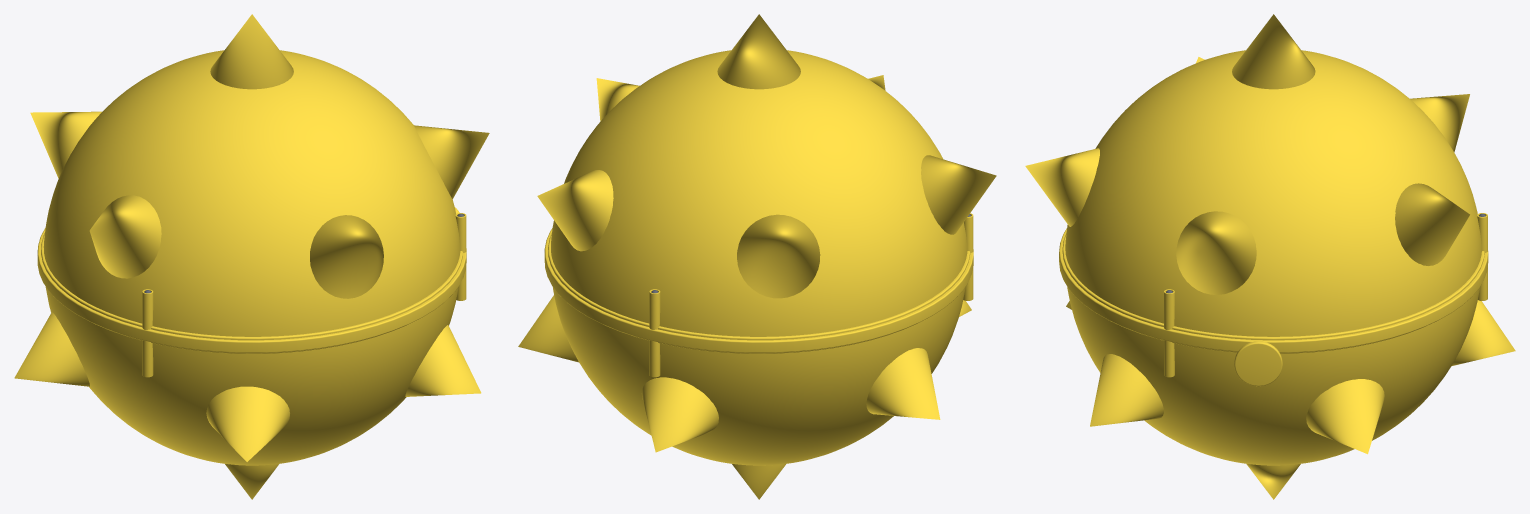
The model's file is spikeball.fbx.
3 views of the same model, side by side, from view 1: azimuth 30°, elevation 25°; view 2: azimuth 150°, elevation 25°; view 3: azimuth 270°, elevation 25° (orthographic).
Visible parts, largest first — view 1: Sphere, Tube, Cylinder_2_12, Cylinder_2_7, Cylinder_2, Cylinder_2_8, Cylinder_2_3, Cylinder_2_6, Cylinder_2_11, Tube_1, Cylinder_2_9, Cylinder_2_2 (+2 smaller); view 2: Sphere, Tube, Cylinder_2_9, Cylinder_2_5, Cylinder_2_10, Cylinder_2_6, Cylinder_2_8, Cylinder_2_7, Tube_1, Cylinder_2_4, Cylinder_2_2, Cylinder_2_11 (+2 smaller); view 3: Sphere, Tube, Cylinder_2_11, Cylinder_2_10, Cylinder_2_4, Cylinder_2_8, Cylinder_2_3, Cylinder_2_12, Tube_1, Cylinder_2_5, Cylinder_1, Cylinder_2_9 (+2 smaller).
Part boxes in pixels (left/top/right/bottom): Sphere: left=43, top=50, right=460, bottom=465; Tube: left=37, top=228, right=466, bottom=352; Cylinder_2_12: left=310, top=215, right=383, bottom=298; Cylinder_2_7: left=89, top=195, right=161, bottom=278; Cylinder_2: left=206, top=386, right=289, bottom=461; Cylinder_2_8: left=210, top=14, right=293, bottom=89; Cylinder_2_3: left=405, top=325, right=481, bottom=396; Cylinder_2_6: left=14, top=312, right=89, bottom=386; Cylinder_2_11: left=414, top=125, right=489, bottom=199; Tube_1: left=41, top=233, right=462, bottom=353; Cylinder_2_9: left=30, top=111, right=101, bottom=178; Cylinder_2_2: left=225, top=464, right=278, bottom=499; Sphere: left=551, top=50, right=967, bottom=465; Tube: left=544, top=228, right=973, bottom=352; Cylinder_2_9: left=737, top=214, right=820, bottom=298; Cylinder_2_5: left=641, top=377, right=718, bottom=452; Cylinder_2_10: left=537, top=170, right=613, bottom=251; Cylinder_2_6: left=866, top=348, right=940, bottom=419; Cylinder_2_8: left=717, top=14, right=800, bottom=89; Cylinder_2_7: left=921, top=155, right=996, bottom=234; Tube_1: left=548, top=233, right=970, bottom=353; Cylinder_2_4: left=518, top=295, right=578, bottom=362; Cylinder_2_2: left=732, top=464, right=785, bottom=499; Cylinder_2_11: left=596, top=78, right=639, bottom=121; Sphere: left=1065, top=50, right=1481, bottom=465; Tube: left=1059, top=228, right=1488, bottom=352; Cylinder_2_11: left=1176, top=211, right=1256, bottom=294; Cylinder_2_10: left=1395, top=183, right=1469, bottom=265; Cylinder_2_4: left=1306, top=379, right=1384, bottom=454; Cylinder_2_8: left=1232, top=14, right=1315, bottom=89; Cylinder_2_3: left=1090, top=354, right=1163, bottom=426; Cylinder_2_12: left=1025, top=148, right=1099, bottom=226; Tube_1: left=1062, top=233, right=1484, bottom=353; Cylinder_2_5: left=1451, top=300, right=1515, bottom=366; Cylinder_1: left=1234, top=341, right=1282, bottom=386; Cylinder_2_9: left=1410, top=94, right=1469, bottom=152.
Size of the model in its own units: 177 by 200 by 183.
